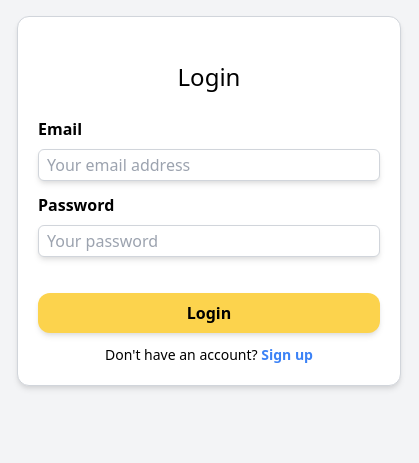
check login form without hitting submit › check form errors on inputs
In the field with placeholder "Your email address": (209, 165) [38, 149, 380, 181], type "invalid-email@protonmail"
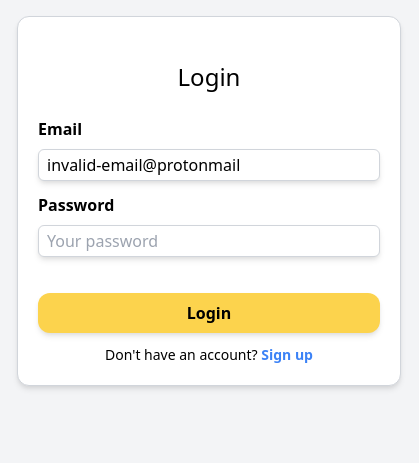
Leave the field with placeholder "Your email address", box [38, 149, 380, 181]
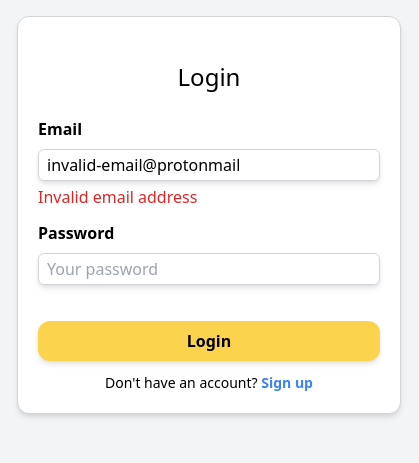
Expected: the text with test id "error-email" reads "Invalid email address", [38, 186, 197, 208]
Focus the password field with placeholder "Your password": (209, 269) [38, 253, 380, 285]
Expected: the text with test id "error-email" reads "Invalid email address", [38, 186, 197, 208]
Leave the password field with placeholder "Your password", box [38, 253, 380, 285]
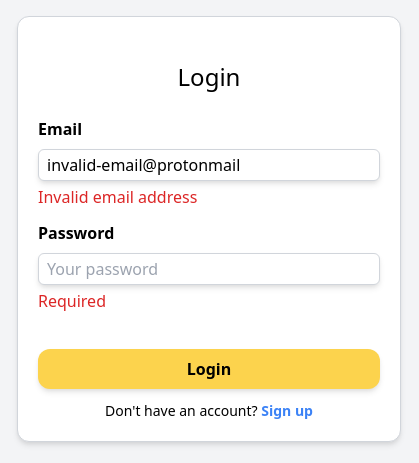
Expected: the text with test id "error-email" reads "Invalid email address", [38, 186, 197, 208]
Expected: the text with test id "error-password" reads "Required", [38, 290, 106, 312]
Clear the field with placeholder "Your email address": (209, 165) [38, 149, 380, 181]
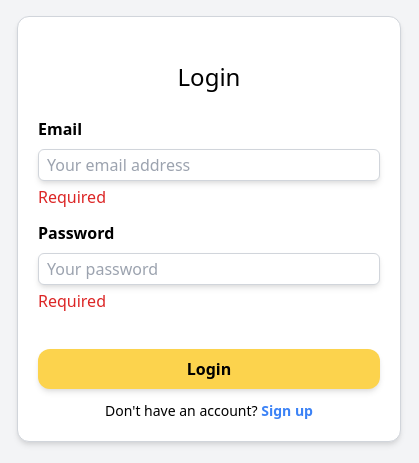
Expected: the text with test id "error-password" reads "Required", [38, 290, 106, 312]
Expected: the text with test id "error-email" reads "Required", [38, 186, 106, 208]
In the field with placeholder "Your email address": (209, 165) [38, 149, 380, 181], type "valid@protonmail.com"
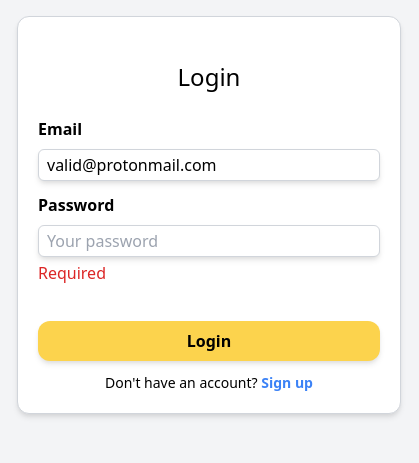
Expected: the text with test id "error-password" reads "Required", [38, 262, 106, 284]
Expected: the text with test id "error-email" is gone
In the password field with placeholder "Your password": (209, 241) [38, 225, 380, 257], type "pass"
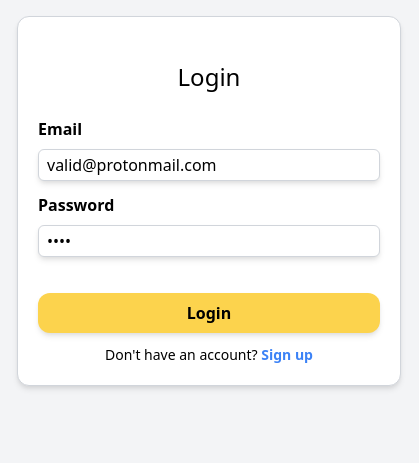
Expected: the text with test id "error-password" is gone
